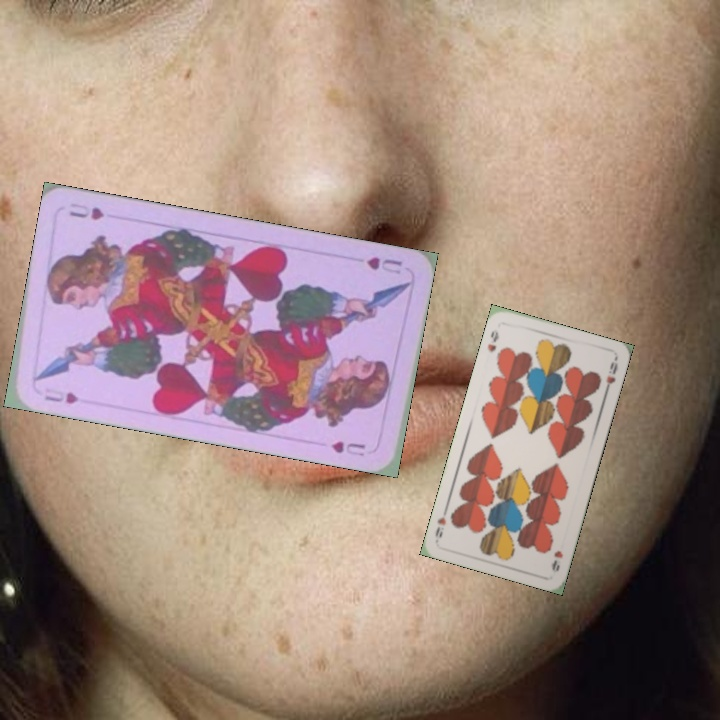H9: (483, 325, 502, 354), (547, 547, 565, 575)
HU: (363, 252, 405, 277), (40, 383, 81, 407)
